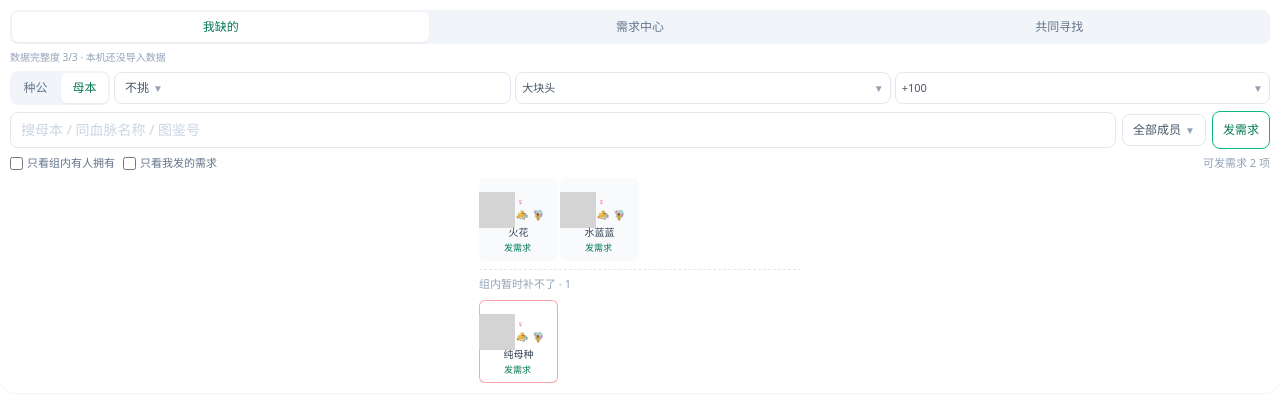
it: MotherGroupResources 三视图 › 成员筛选在我缺的里改成复选框，可多选并展示他们能补的并集
Click the button with test id "mother-member-filter" at (1164, 130), box [1122, 114, 1206, 146]
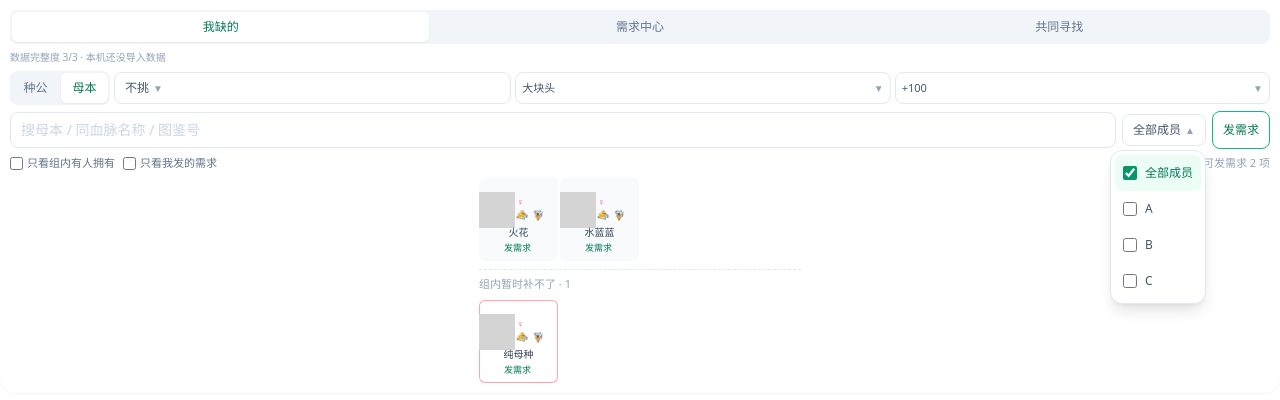
Click the checkbox labelled "B" at (1130, 245), box [1123, 238, 1137, 252]
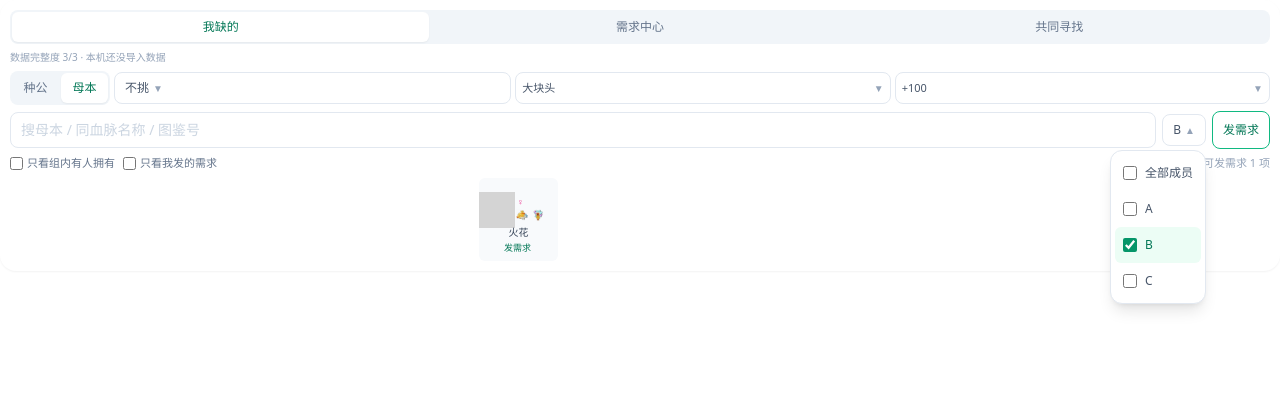
Expected: the list item with test id "mother-resource-row" shows "火花", [508, 224, 528, 238]
Now the button with test id "mother-member-filter" is expanded, box [1162, 114, 1206, 146]
Now the number of list items with test id "mother-resource-row" is 1, box [479, 178, 558, 260]
Click the checkbox labelled "C" at (1130, 281), box [1123, 274, 1137, 288]
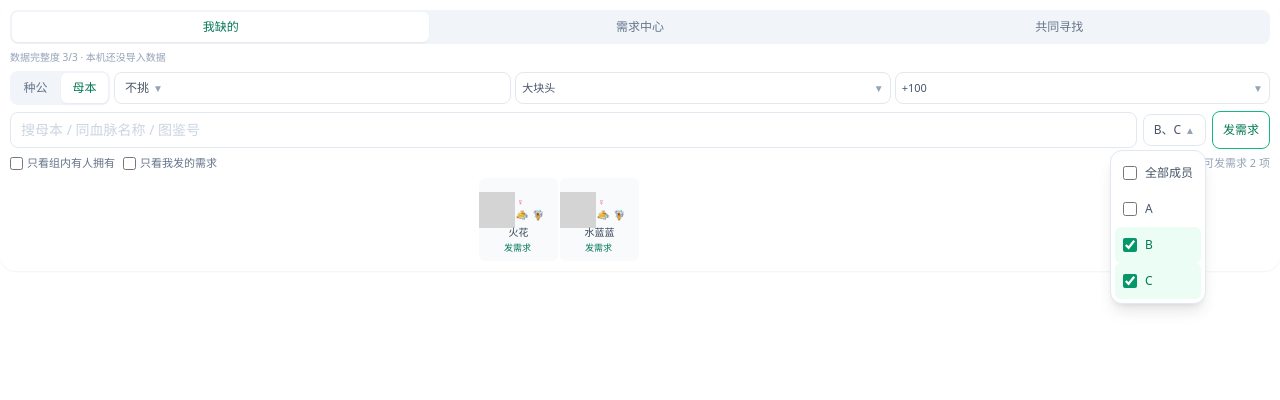
Now the button with test id "mother-member-filter" shows "B、C", box [1143, 114, 1206, 146]
Now the number of list items with test id "mother-resource-row" is 2, box [479, 178, 558, 260]; [560, 178, 639, 260]
Click the checkbox labelled "全部成员" at (1130, 173), box [1123, 166, 1137, 180]
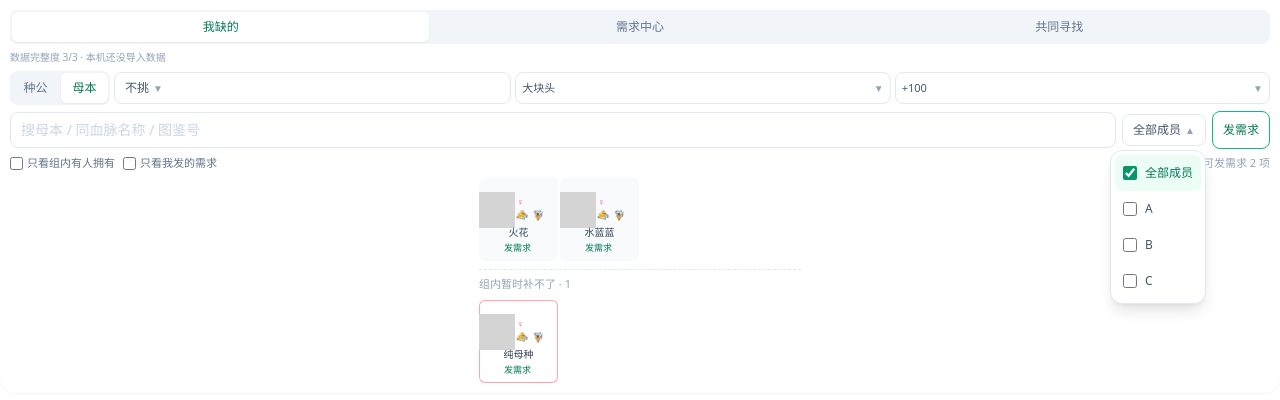
Now the button with test id "mother-member-filter" shows "全部成员", box [1122, 114, 1206, 146]
// 没人发需求 → 需求中心是空态
Click the button with test id "mother-view-mine" at (640, 27), box [431, 12, 849, 42]
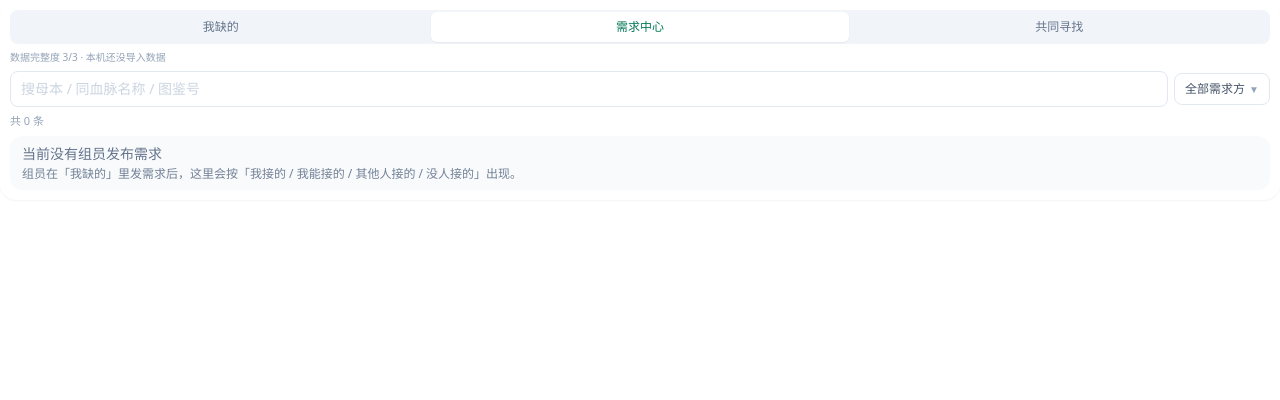
Now no list items with test id "mother-resource-row" are shown
Now the message with test id "mother-intake-empty" shows "当前没有组员发布需求", box [22, 144, 162, 162]
